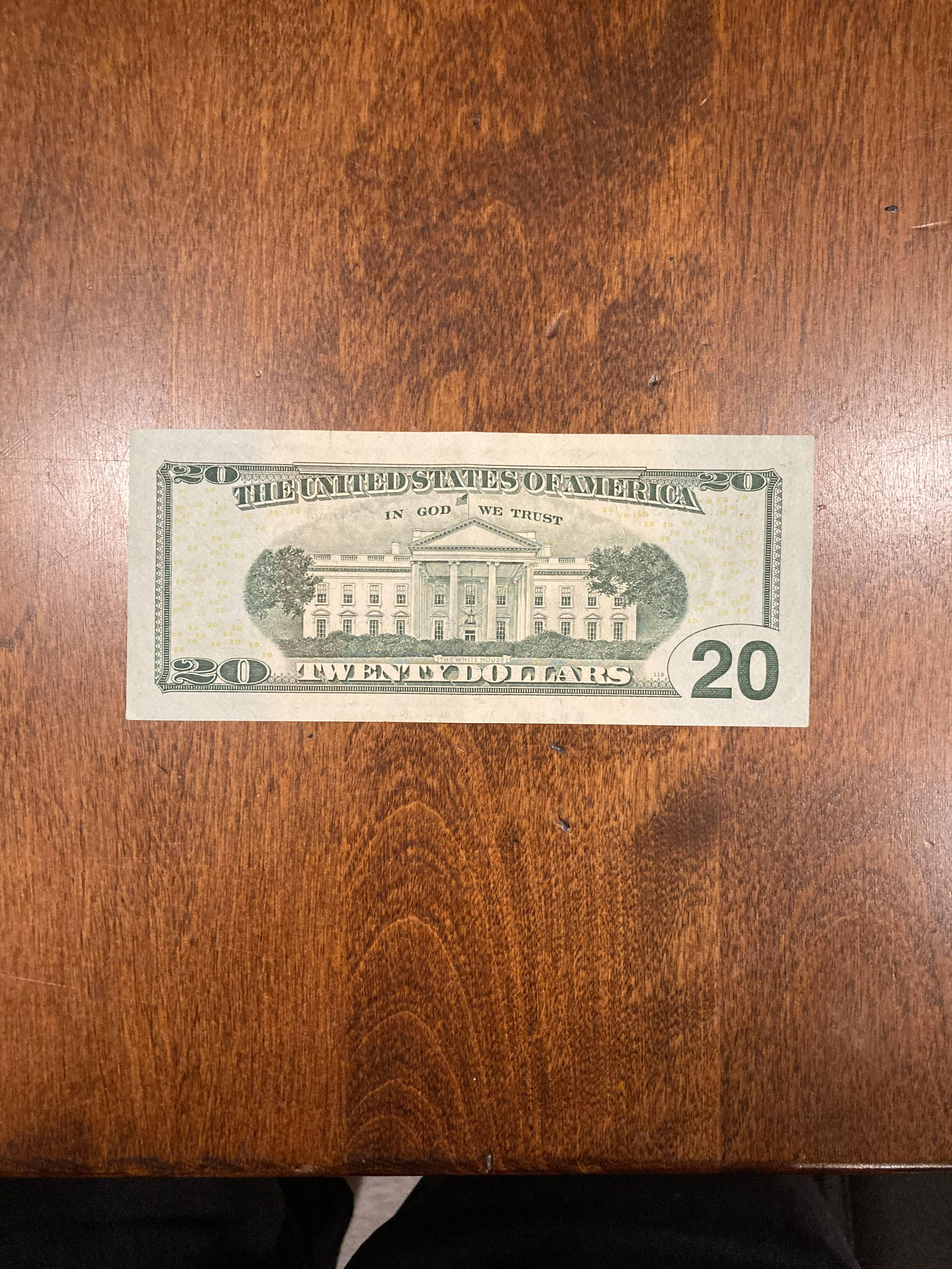twenty-back: (127, 428, 815, 729)
